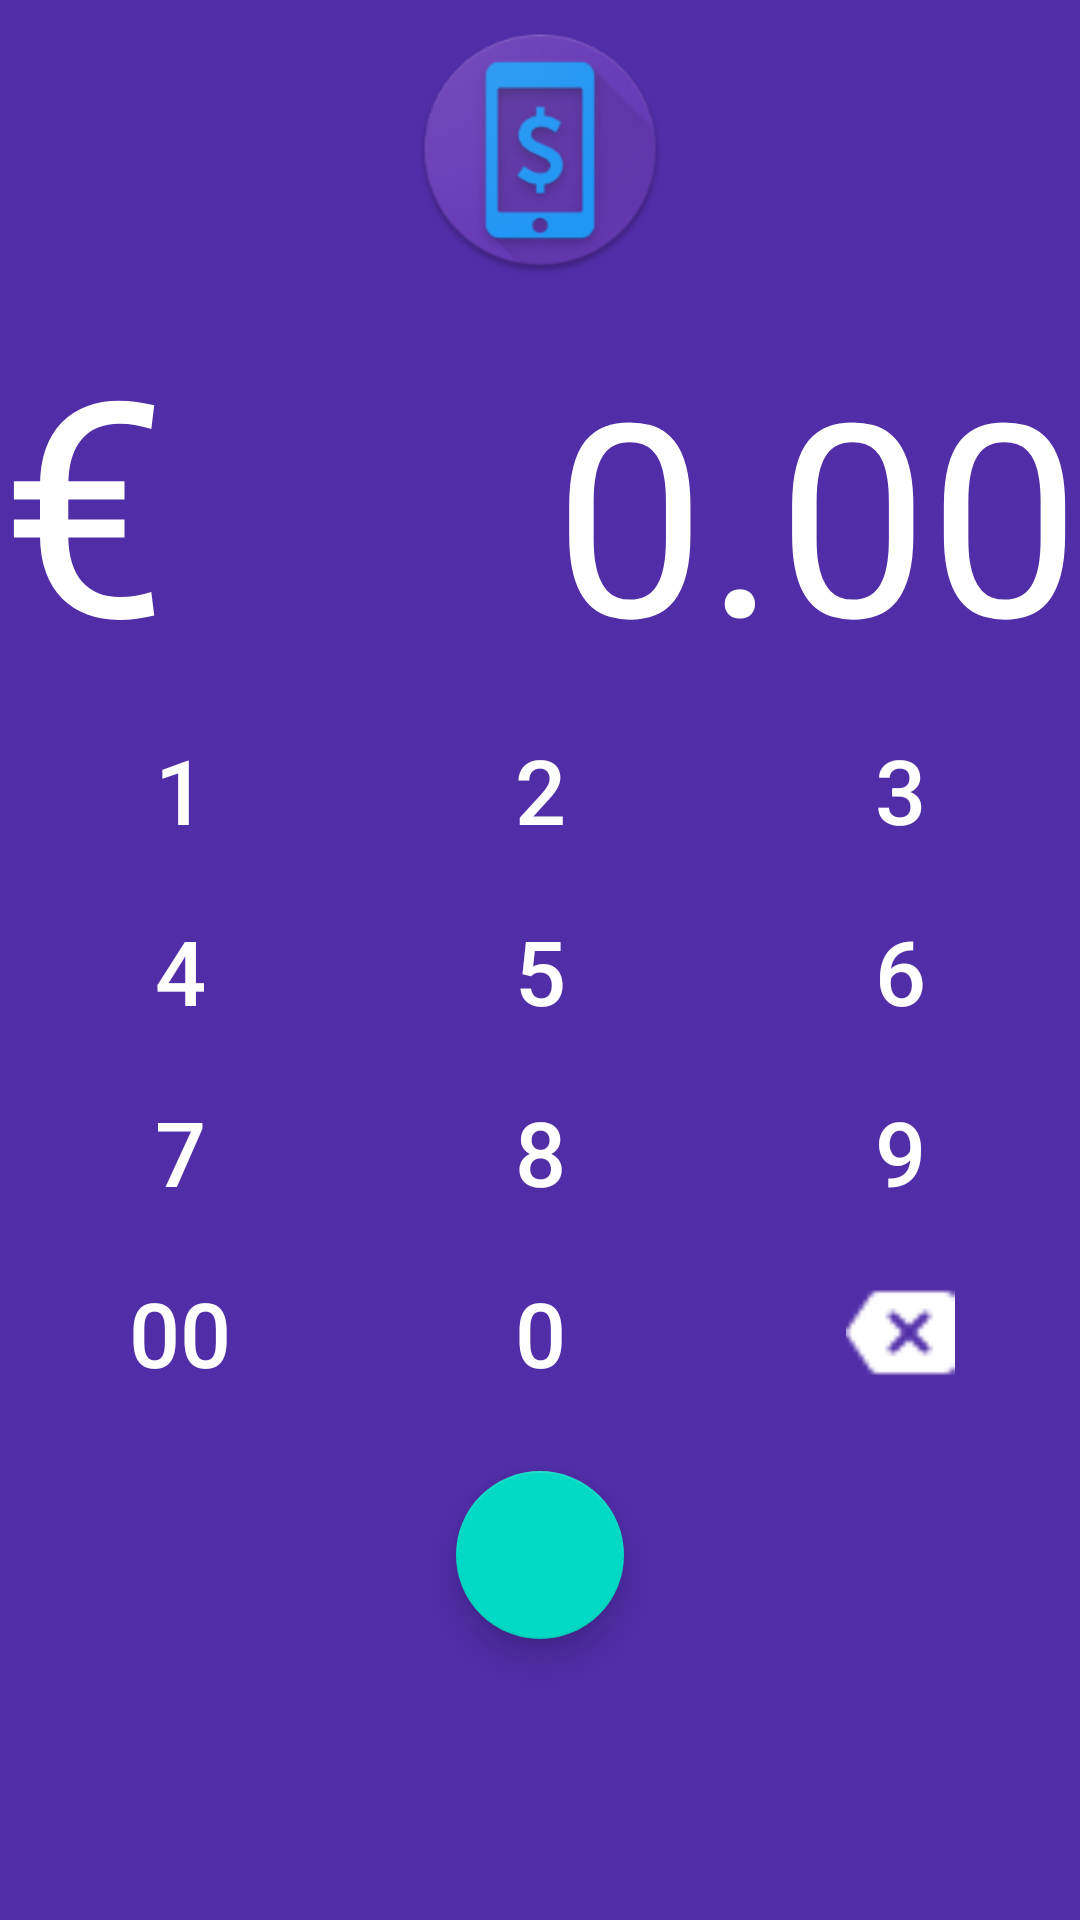

Named icons in this screenshot (1080 × 1920) and their bounding boxes, [left=x1, top=y1, right=x2, bottom=y2]:
backspace: [left=846, top=1290, right=955, bottom=1375]
